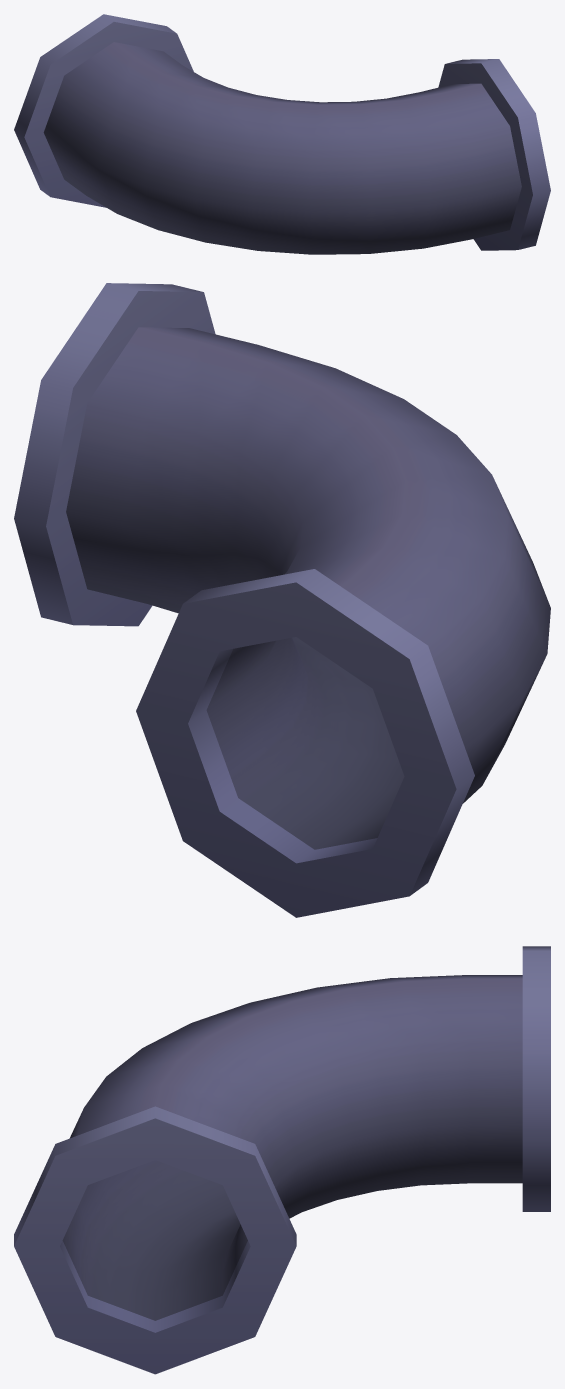
The model's file is pipe-bend.glb.
3 views of the same model, one above another, from view 1: azimuth 30°, elevation 25°; view 2: azimuth 150°, elevation 25°; view 3: azimuth 270°, elevation 25° (orthographic). The views are drawn at different scales.
Parts seen in each view (by area): view 1: pipe-large-bend; view 2: pipe-large-bend; view 3: pipe-large-bend.
Boxes of the visible parts, x1,y1,x2,y2 form: pipe-large-bend: [14, 14, 550, 254]; pipe-large-bend: [14, 283, 550, 917]; pipe-large-bend: [14, 946, 550, 1374].
Size of the model in its own units: 1.9 by 1 by 1.9.
Materials: 1 (1 with a texture image).
